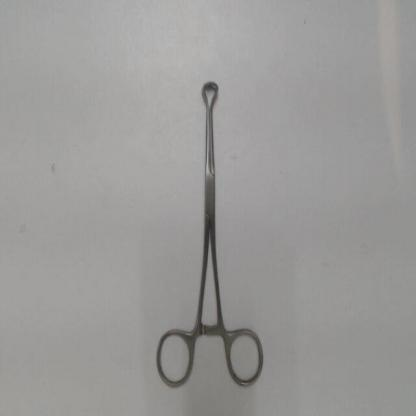Babcock Tissue Forceps: (153, 74, 267, 391)
